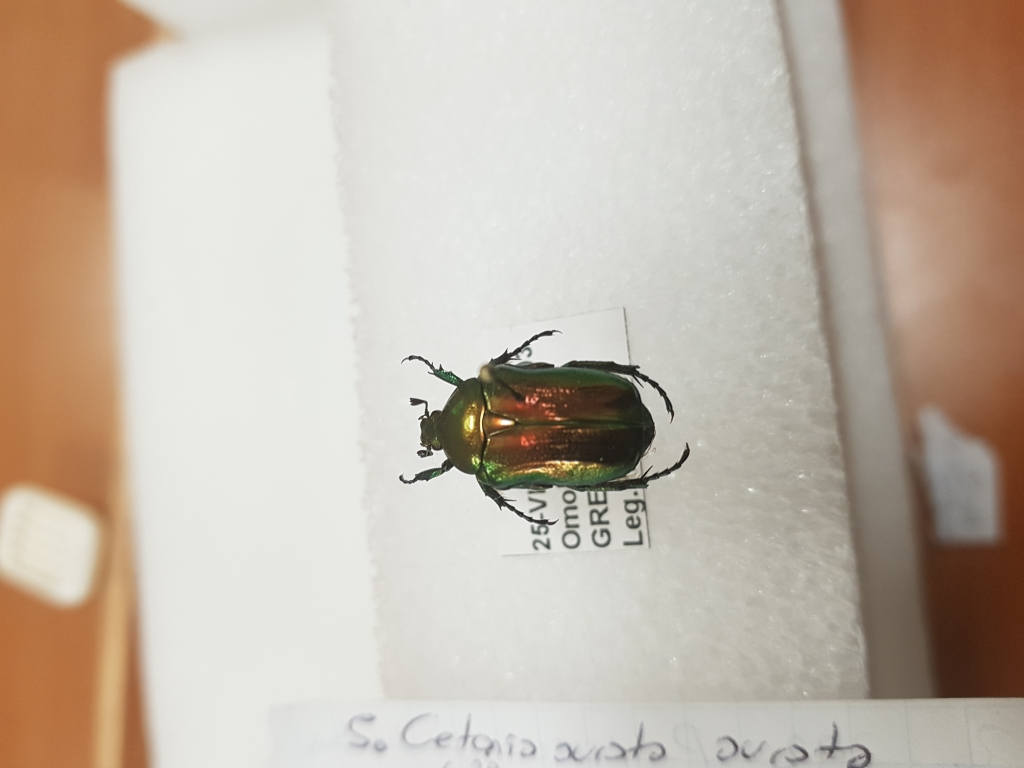Cetonia_aurata: (379, 319, 693, 526)
